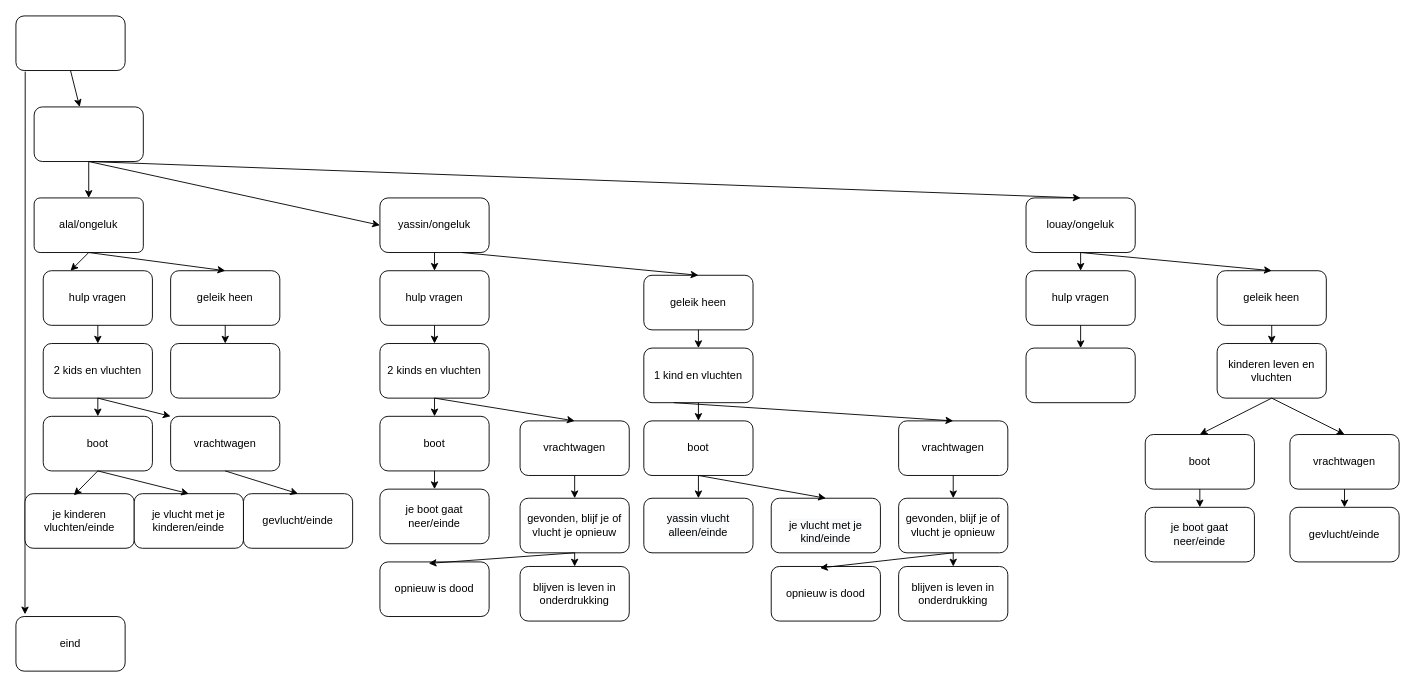
Image size: 1415x687. Some labels were removed from this diagram. The centre of each missing label's shape, as x and y in pixels:
"alleen jij leeft en sterft uiteindelijk/einde" goes at point 1080,375.
"begin" goes at point 70,43.
"naam keuze" goes at point 88,134.
"niet gehaald/einde" goes at point 225,370.
